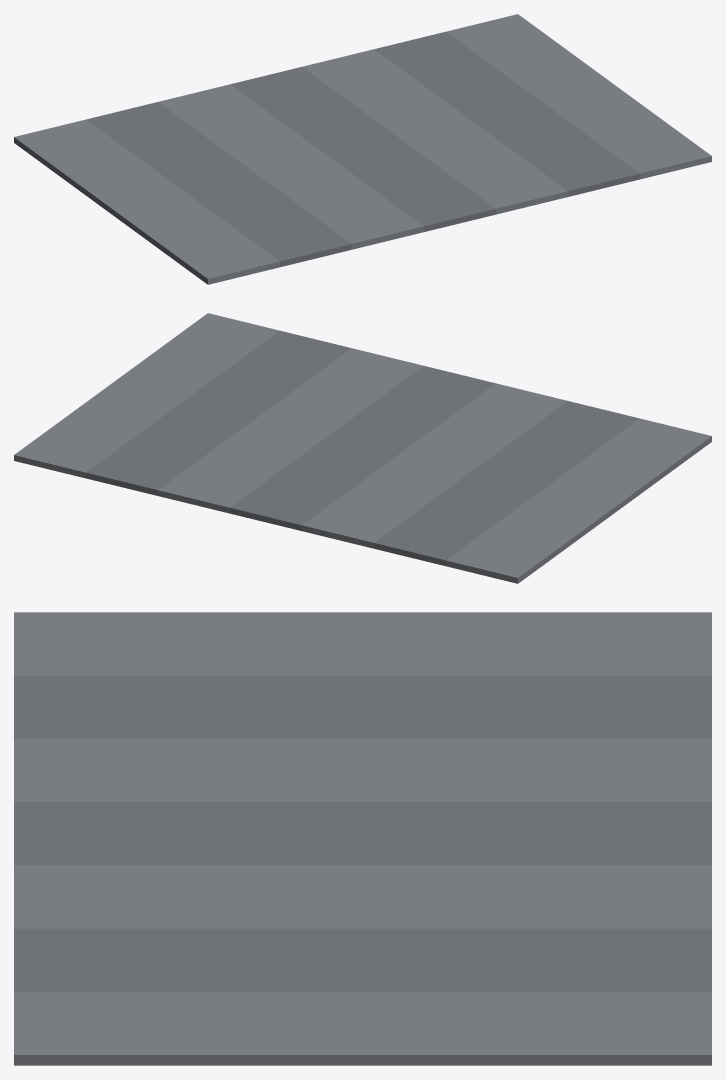
The model's file is Carpet4_C2.fbx.
3 views of the same model, one above another, from view 1: azimuth 30°, elevation 25°; view 2: azimuth 150°, elevation 25°; view 3: azimuth 270°, elevation 25° (orthographic). The views are drawn at different scales.
Parts seen in each view (by area): view 1: Carpet4_C2; view 2: Carpet4_C2; view 3: Carpet4_C2.
Part boxes in pixels (x1=…): Carpet4_C2: x1=14, y1=14, x2=711, y2=284; Carpet4_C2: x1=14, y1=313, x2=711, y2=583; Carpet4_C2: x1=14, y1=612, x2=711, y2=1065.
Bounding box in the file's own units: 90 × 1 × 60.
